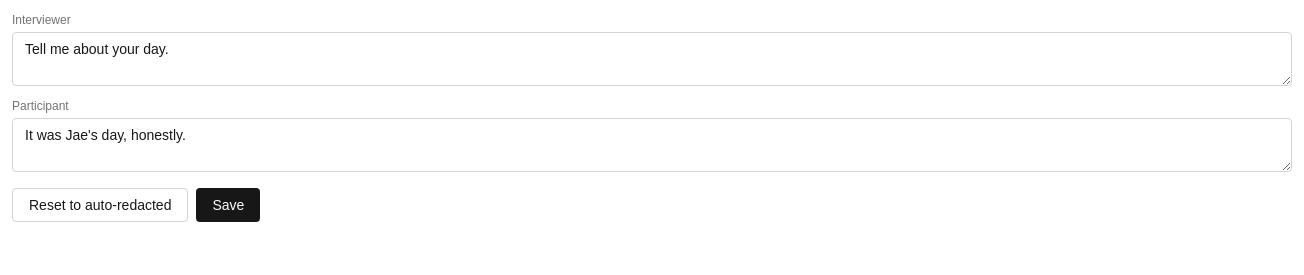
RedactedTranscriptEditor › shows the server's error message when saving fails
Click the button "Save". click: point(228, 205)
box: [196,188,260,222]
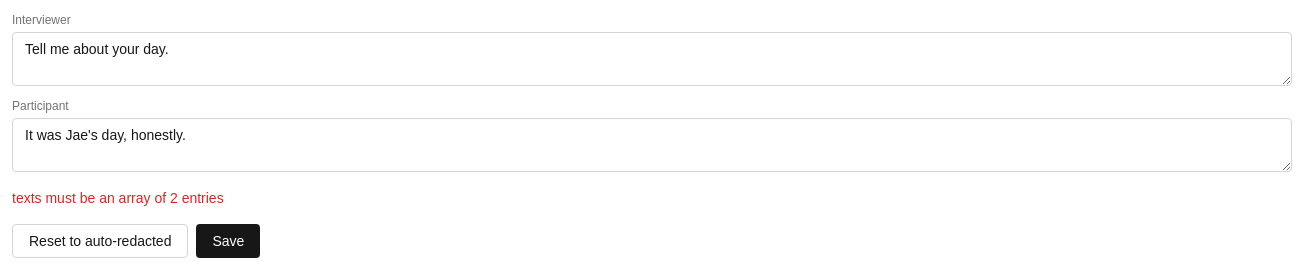
Check: the text "texts must be an array of 2 entries" is shown, box [12,190,224,206]
